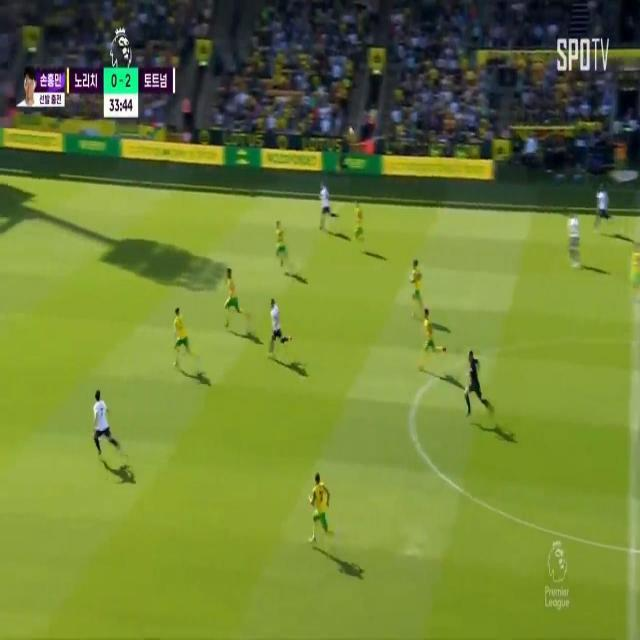player: (307, 466, 333, 544), (92, 388, 113, 468), (222, 260, 242, 330), (419, 303, 439, 368), (409, 249, 427, 315), (315, 177, 333, 239), (563, 213, 583, 268), (265, 299, 285, 352), (351, 200, 370, 254), (592, 182, 610, 237), (173, 303, 190, 359), (273, 217, 290, 263), (628, 241, 640, 286)
referee: (463, 345, 483, 413)
